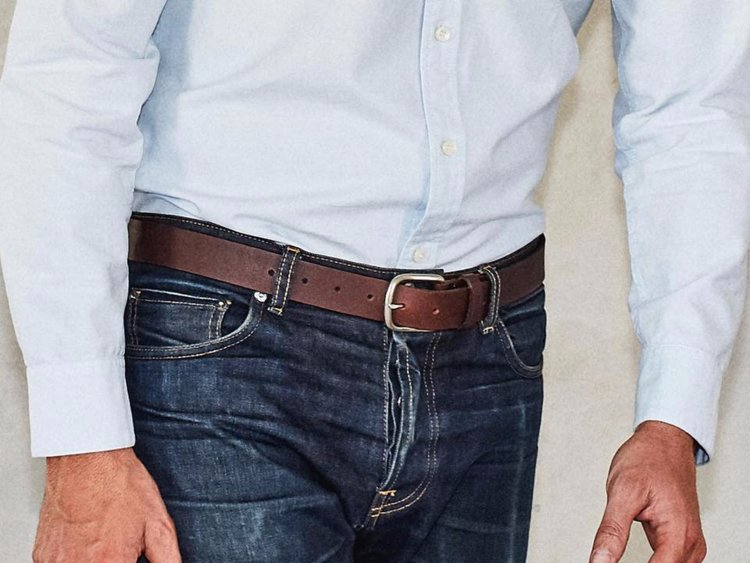C_jeans: (119, 219, 550, 562)
F_belt: (112, 212, 570, 342)
